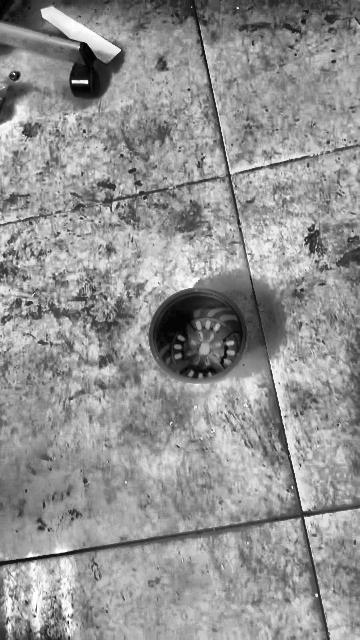pot: (149, 289, 247, 382)
